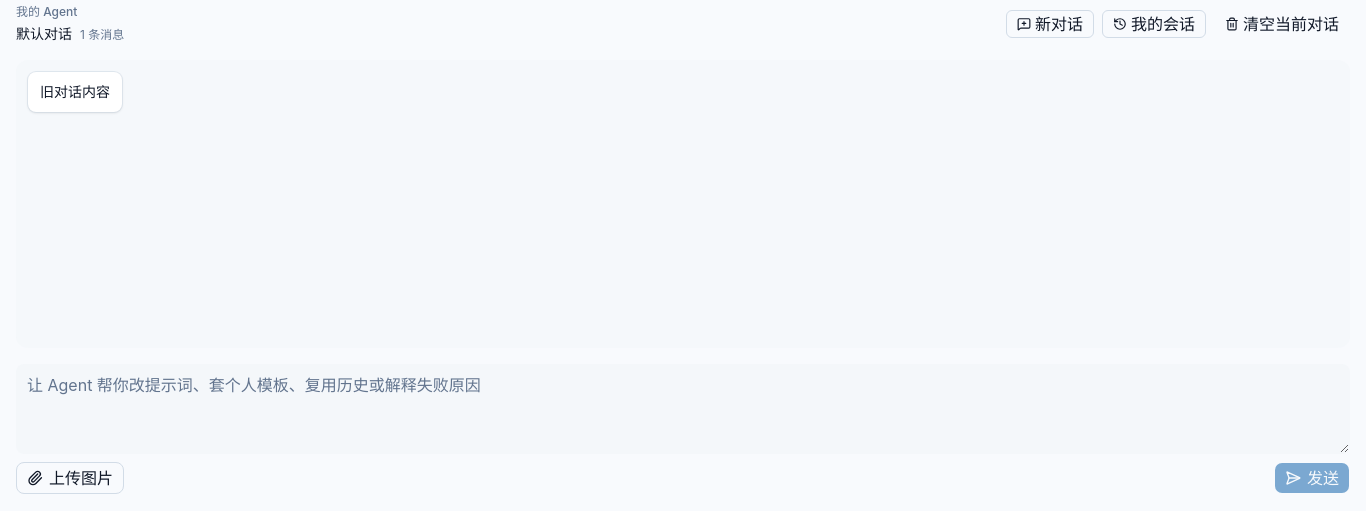
AgentChatPanel › creates a new agent conversation without clearing the old one
The width and height of the screenshot is (1366, 511).
Expected: the text "旧对话内容" is shown, [40,80,110,104]
Click the button "新对话" at (1050, 24), box [1006,10,1094,38]
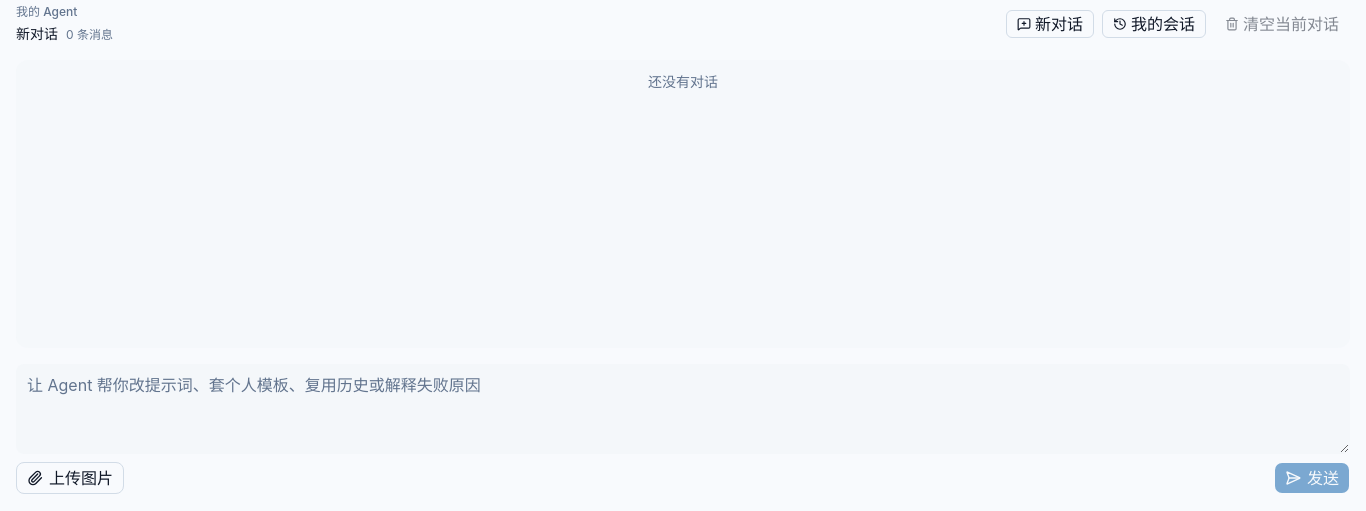
Expected: the text "旧对话内容" is gone
